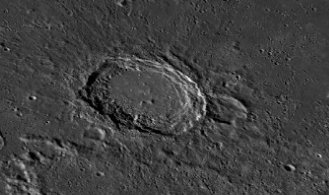crater: (59, 31, 257, 164)
